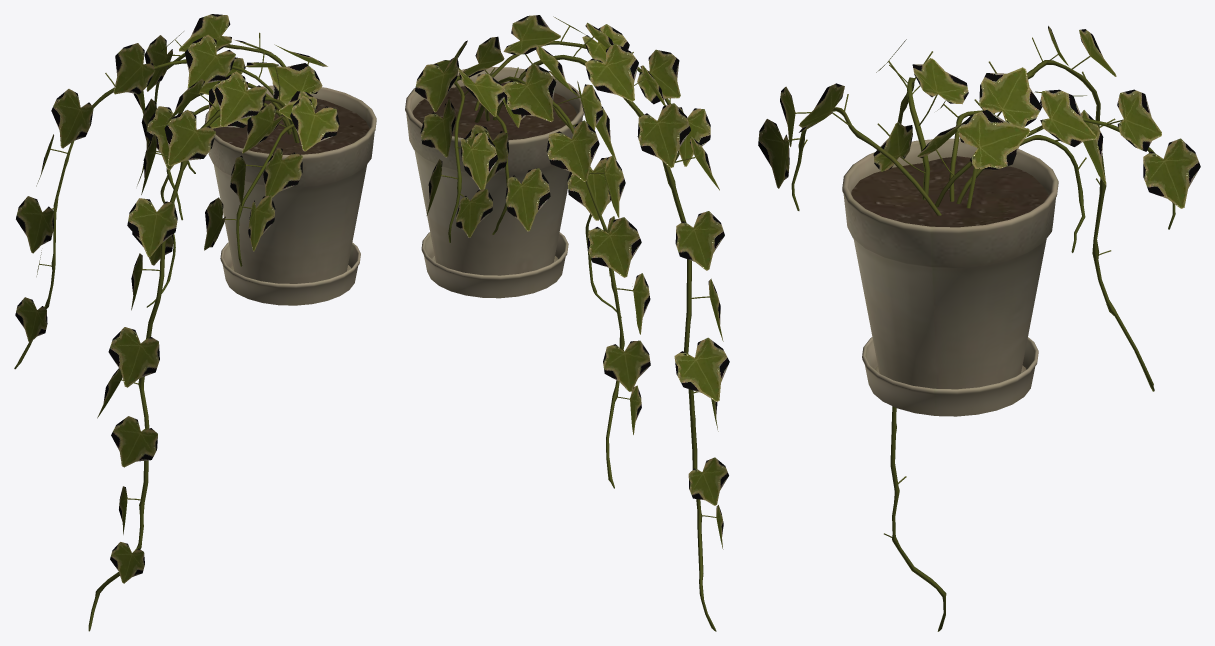
File: SM_PlantSet02_104a89.glb
3 renders of one model, left to right at view 1: azimuth 30°, elevation 25°; view 2: azimuth 150°, elevation 25°; view 3: azimuth 270°, elevation 25°, orthographic. The views are drawn at different scales.
Size of the model in its own units: 0.4319 by 0.7927 by 0.4652.
1 material, 1 textured.
